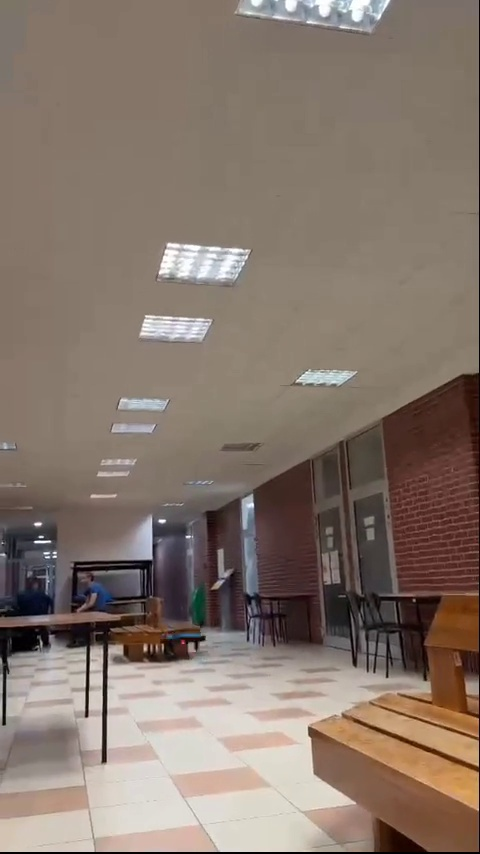drone: (167, 634, 213, 656)
no vest: (75, 566, 116, 614), (20, 578, 50, 611)
